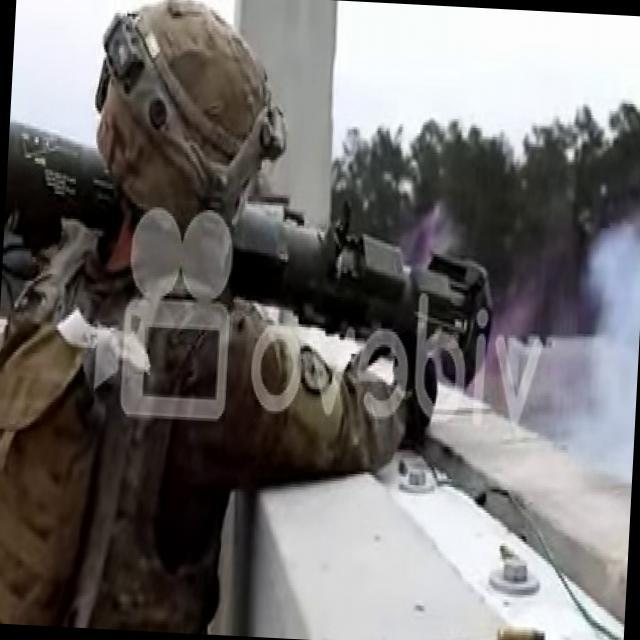rocket: (0, 127, 501, 392)
